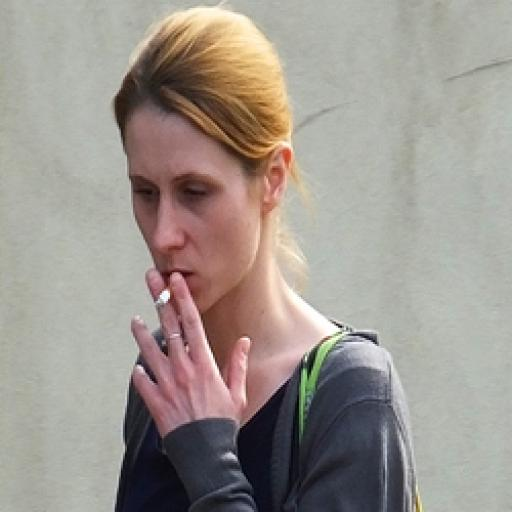terdeteksi merokok: (108, 163, 227, 338)
